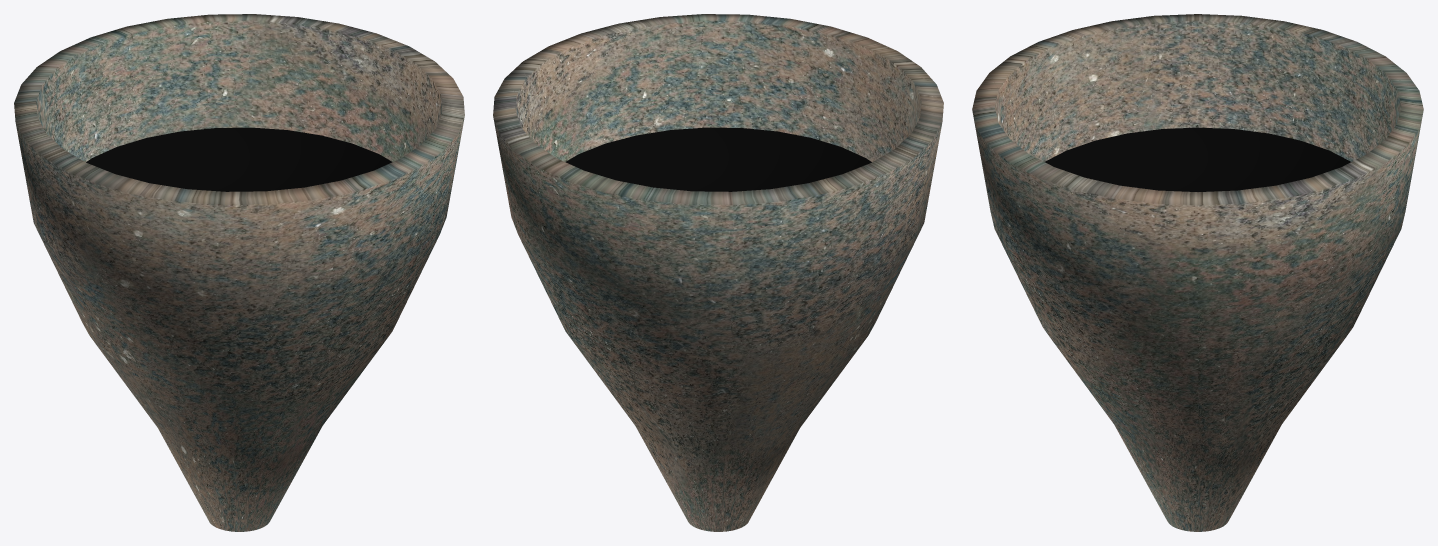
Rendered from Torch.fbx.
The picture shows the model from 3 angles, left to right: view 1: azimuth 30°, elevation 25°; view 2: azimuth 150°, elevation 25°; view 3: azimuth 270°, elevation 25°; orthographic projection.
Parts seen in each view (by area): view 1: Cylinder; view 2: Cylinder; view 3: Cylinder.
Part boxes in pixels (x1,y1,x2,y2): Cylinder: [14, 14, 464, 531]; Cylinder: [493, 14, 943, 531]; Cylinder: [972, 14, 1423, 531].
Bounding box in the file's own units: 200 × 202 × 200.
